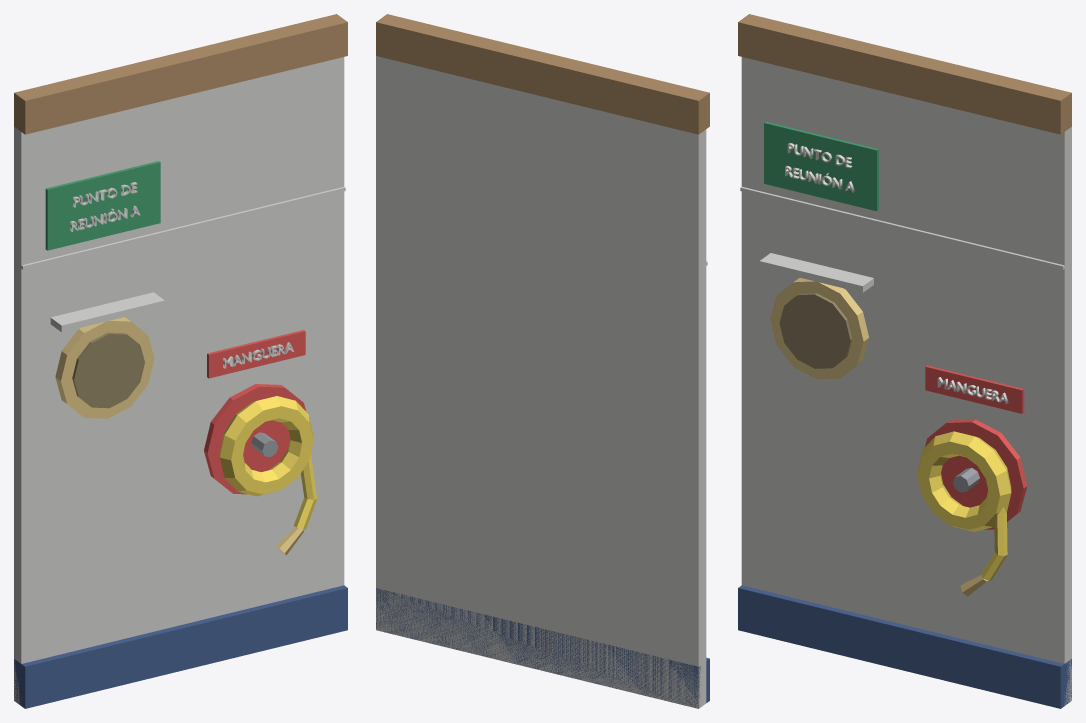
The model's file is CR_Fachada_C.fbx.
3 renders of one model, left to right at view 1: azimuth 30°, elevation 25°; view 2: azimuth 150°, elevation 25°; view 3: azimuth 330°, elevation 25°, orthographic.
Parts seen in each view (by area): view 1: CR_Fachada_C; view 2: CR_Fachada_C; view 3: CR_Fachada_C.
Boxes of the visible parts, x1=… form: CR_Fachada_C: x1=14, y1=14, x2=347, y2=708; CR_Fachada_C: x1=376, y1=14, x2=709, y2=708; CR_Fachada_C: x1=738, y1=14, x2=1071, y2=708.
Bounding box in the file's own units: 2 × 3.6 × 0.31.
